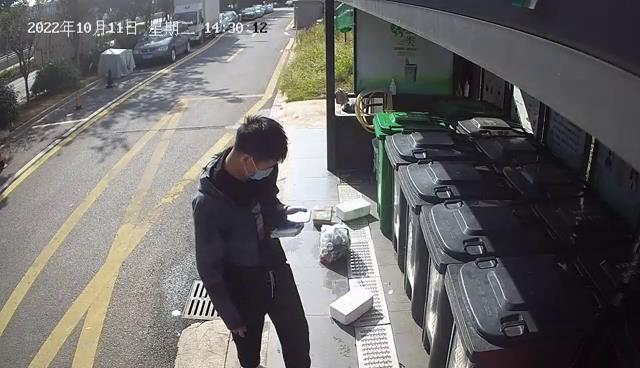person: (189, 115, 312, 368)
suliaozhipin: (319, 222, 352, 264)
zhizhipin: (329, 284, 374, 327), (335, 198, 371, 221), (312, 206, 333, 231)
